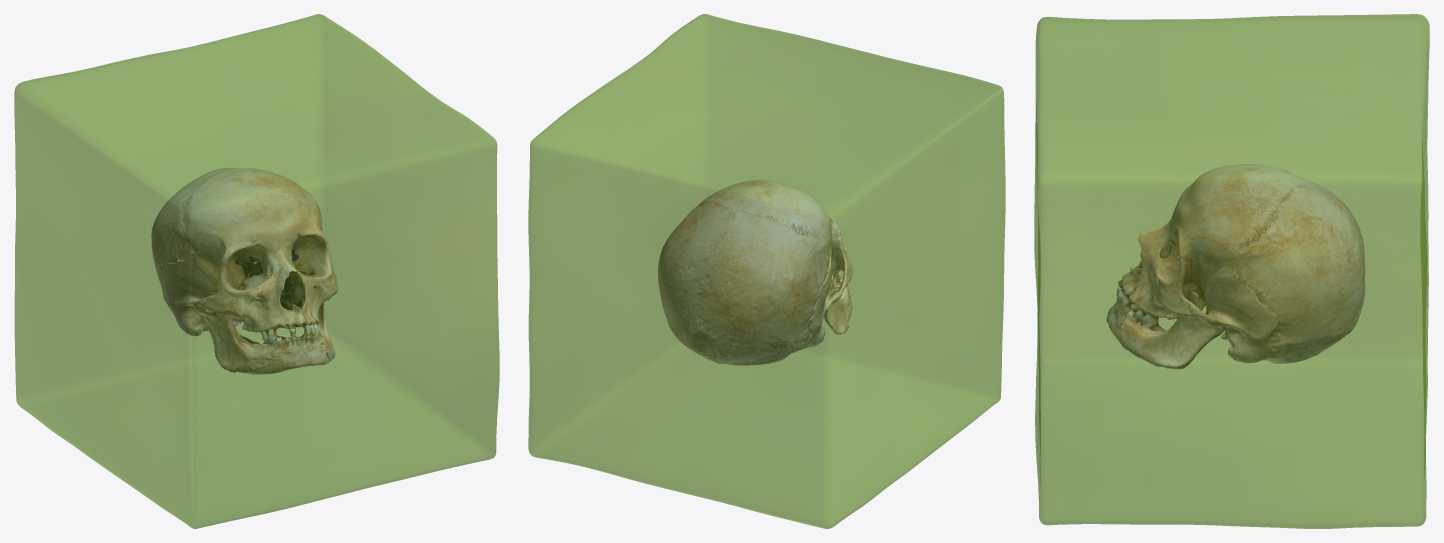
The model's file is experiementalOG.glb.
The picture shows the model from 3 angles, left to right: view 1: azimuth 30°, elevation 25°; view 2: azimuth 150°, elevation 25°; view 3: azimuth 270°, elevation 25°; orthographic projection. The views are drawn at different scales.
Parts seen in each view (by area): view 1: Cube, Skull; view 2: Cube, Skull; view 3: Cube, Skull.
Part boxes in pixels (x1,y1,x2,y2): Cube: [14, 14, 499, 528]; Skull: [151, 167, 338, 374]; Cube: [528, 14, 1005, 528]; Skull: [657, 180, 852, 365]; Cube: [1034, 14, 1429, 528]; Skull: [1106, 164, 1365, 369].
Size of the model in its own units: 0.4494 by 0.4475 by 0.4492.
Materials: 2 (2 with a texture image).
